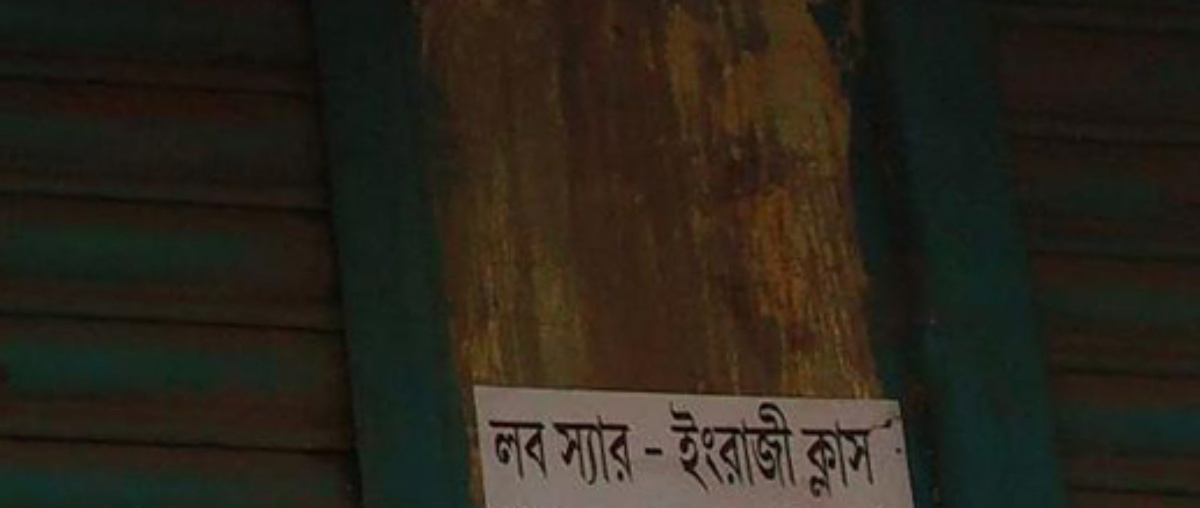text: (673, 399, 688, 497), (689, 399, 704, 497), (705, 399, 720, 497), (721, 399, 736, 497), (737, 399, 752, 497), (753, 399, 768, 497), (769, 399, 784, 497), (785, 399, 800, 497), (801, 418, 816, 502), (817, 418, 832, 502), (833, 418, 848, 502), (849, 418, 864, 502), (865, 418, 880, 502), (660, 399, 672, 497), (545, 411, 560, 488), (561, 411, 576, 488), (577, 411, 592, 488), (593, 411, 608, 488), (609, 411, 624, 488), (625, 411, 640, 488), (497, 416, 512, 485), (513, 416, 528, 485), (529, 416, 544, 485), (545, 416, 560, 485), (486, 416, 496, 485), (641, 441, 656, 467), (657, 441, 671, 467), (801, 399, 804, 497), (641, 411, 643, 488), (799, 418, 800, 502), (561, 416, 562, 485)
